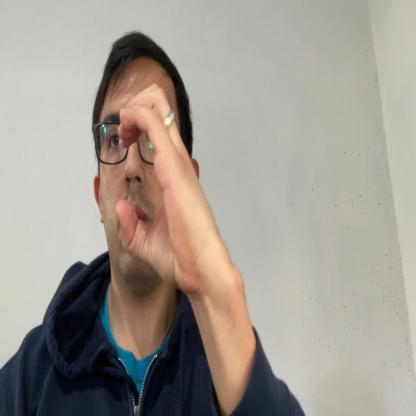C: (115, 81, 204, 296)
